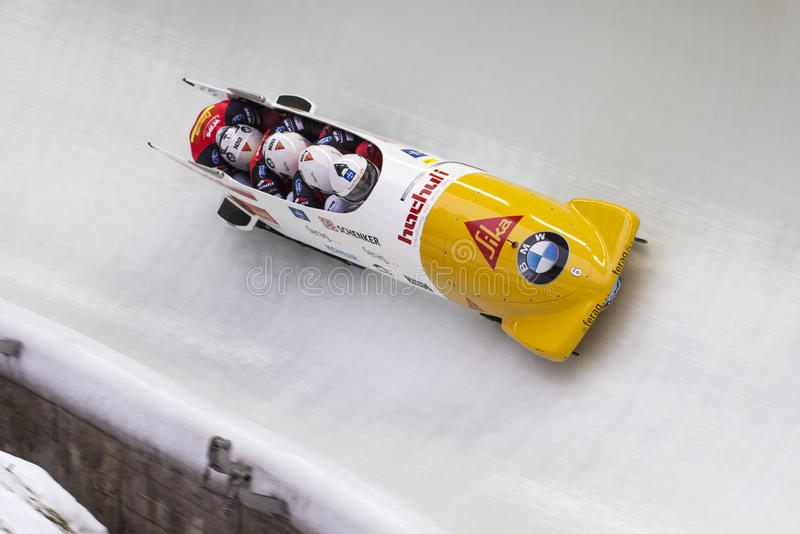Bobsleigh: (148, 80, 641, 362)
